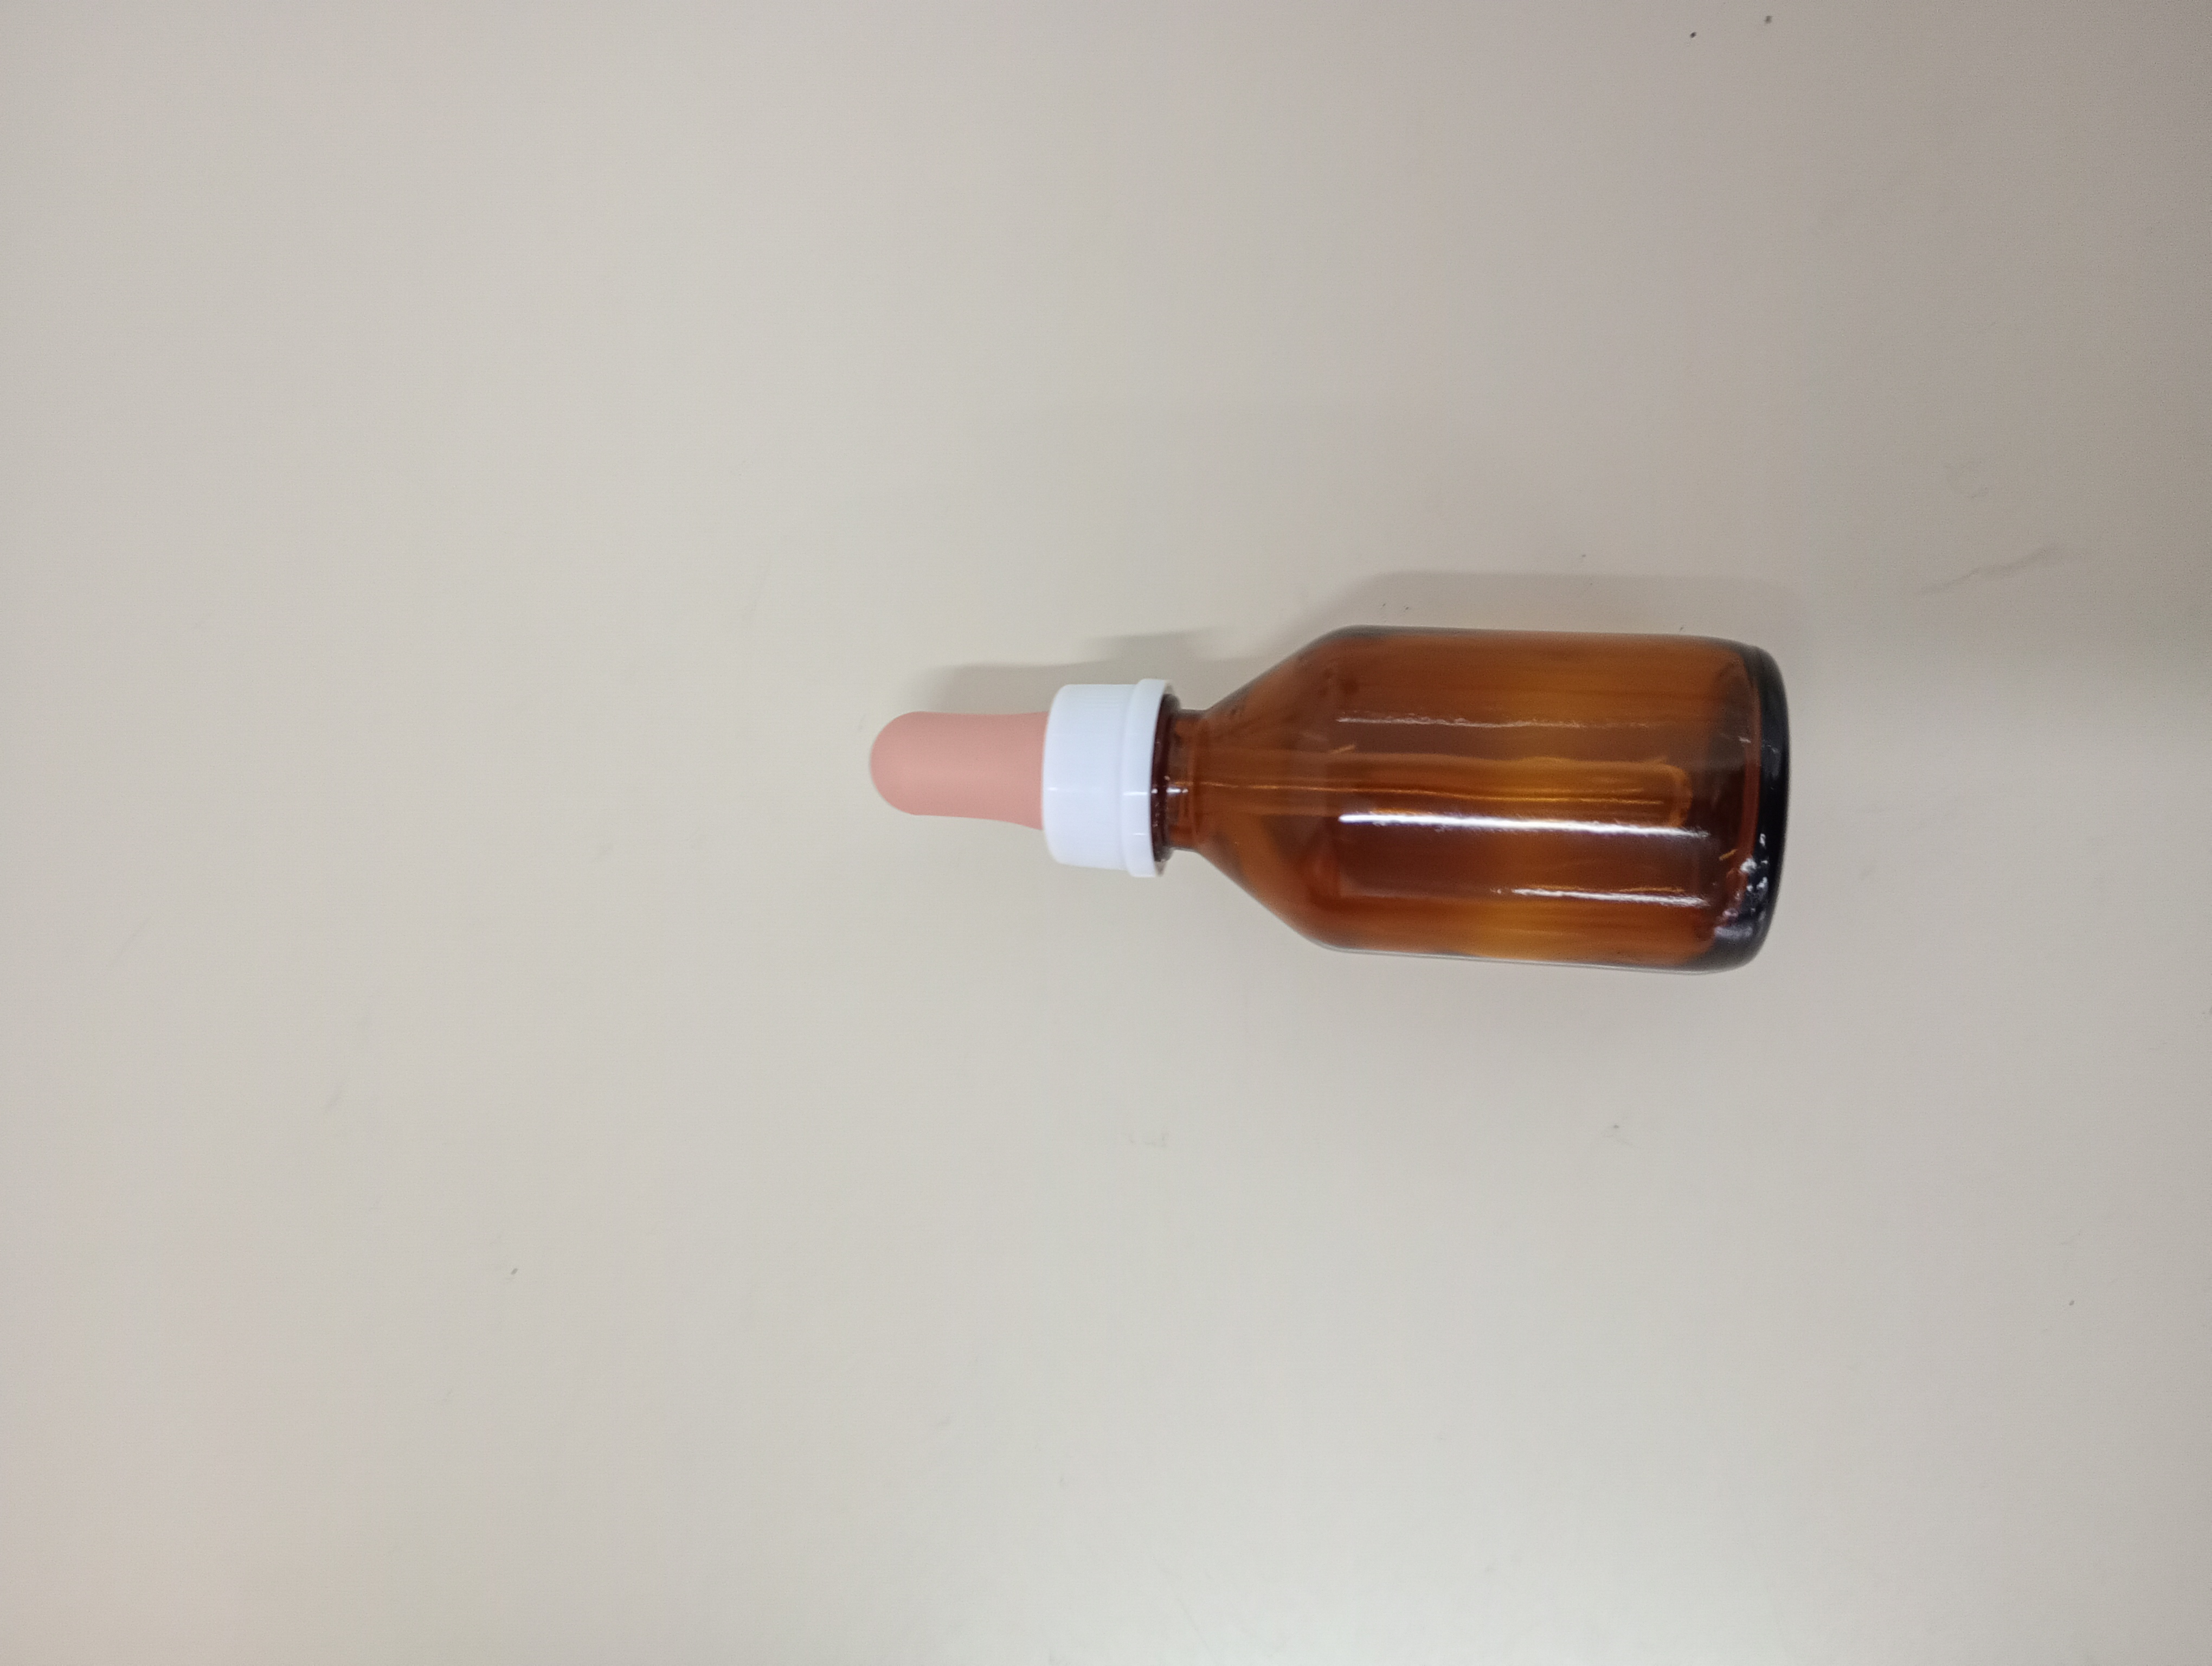remedio: (841, 586, 1813, 1008)
